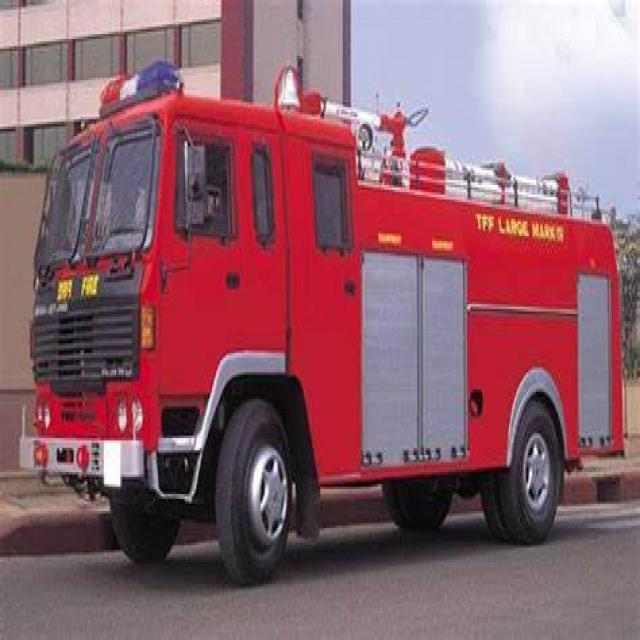Fire-engine: (18, 56, 630, 584)
